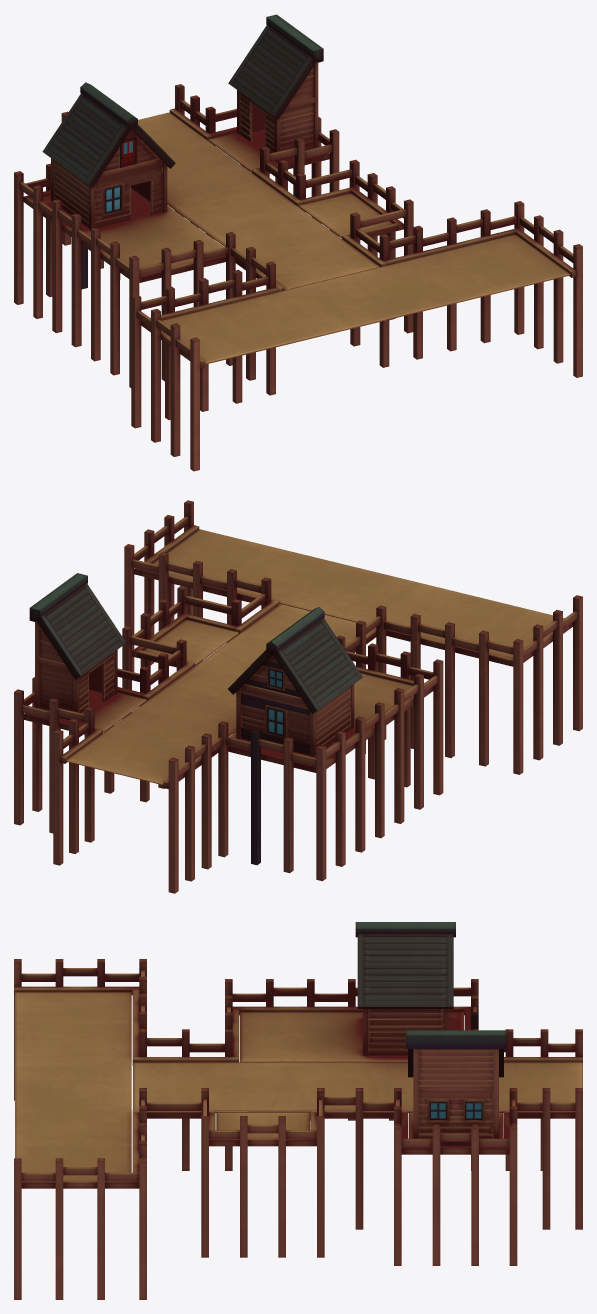
The model's file is Port.glb.
The picture shows the model from 3 angles, top to bottom: view 1: azimuth 30°, elevation 25°; view 2: azimuth 150°, elevation 25°; view 3: azimuth 270°, elevation 25°; orthographic projection. The views are drawn at different scales.
Parts seen in each view (by area): view 1: Port; view 2: Port; view 3: Port.
Part boxes in pixels (x1,y1,x2,y2): Port: (14, 14, 582, 471); Port: (14, 500, 582, 893); Port: (14, 922, 582, 1299).
Size of the model in its own units: 24.09 by 12.61 by 28.63.
2 materials, 2 textured.
